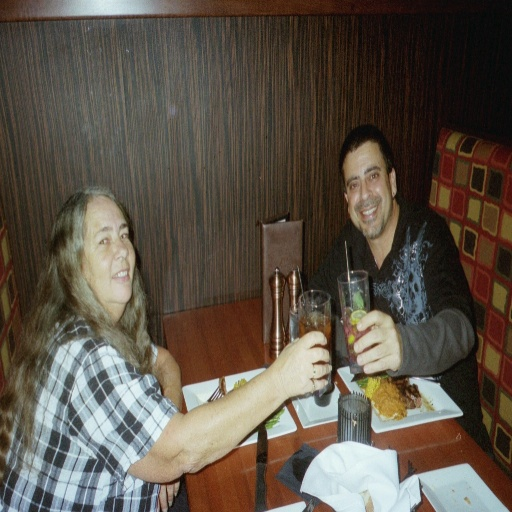hand: (262, 341, 343, 418), (352, 307, 401, 375), (153, 477, 180, 511)
